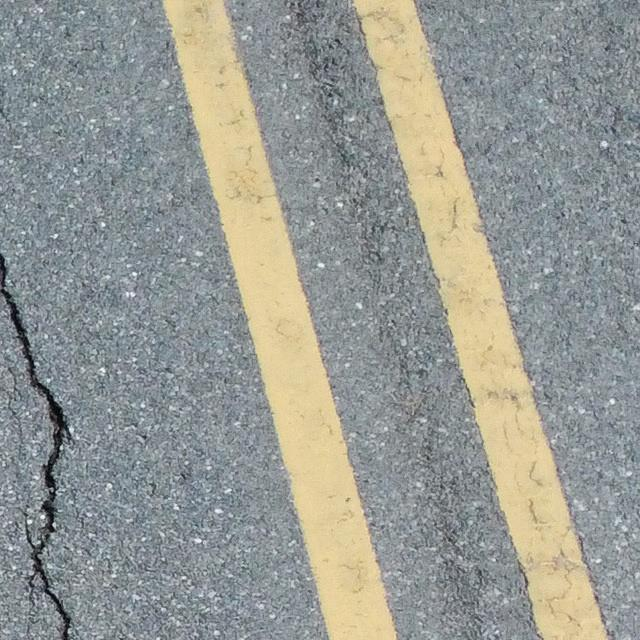LongitudinalCrack: (1, 254, 74, 640)
